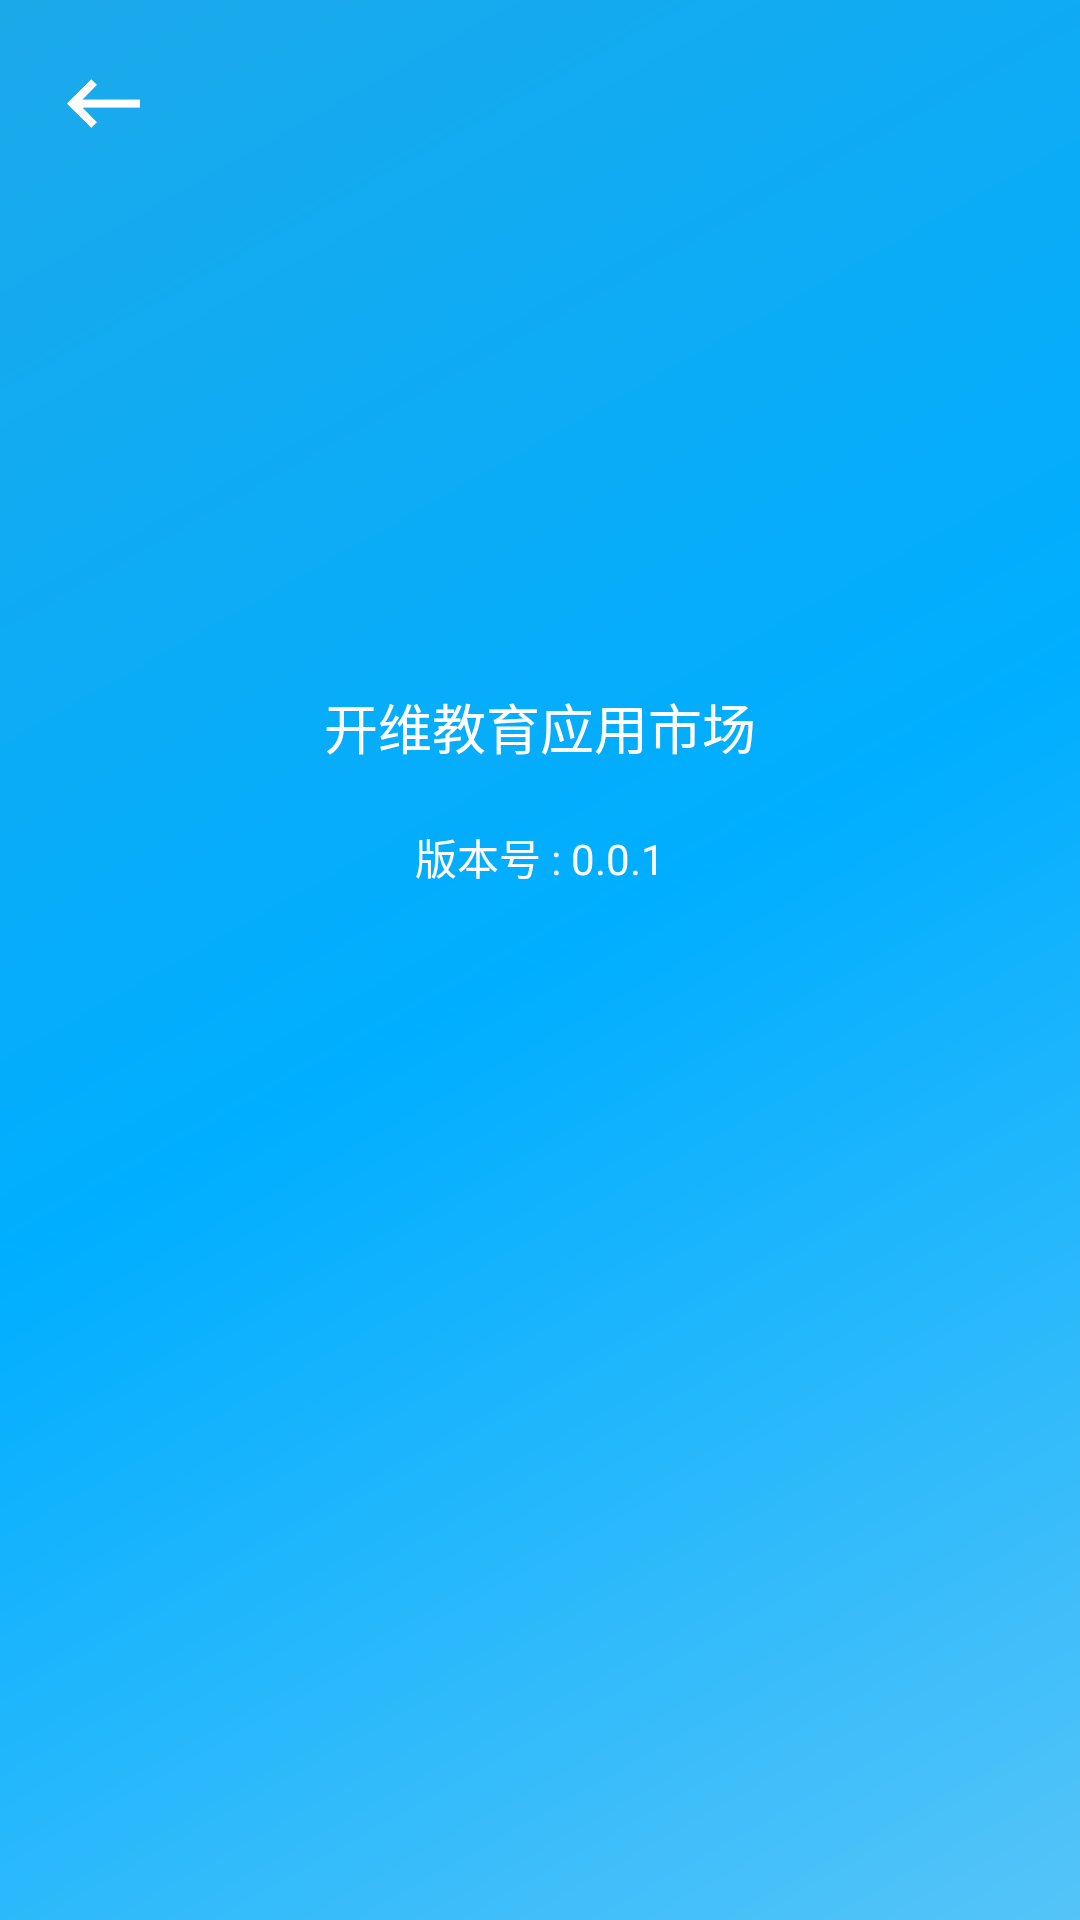

Icons on this 1080x1920 Android screen, each with the point to tap as (x=x, y=y):
keyboard backspace: (x=103, y=103)
